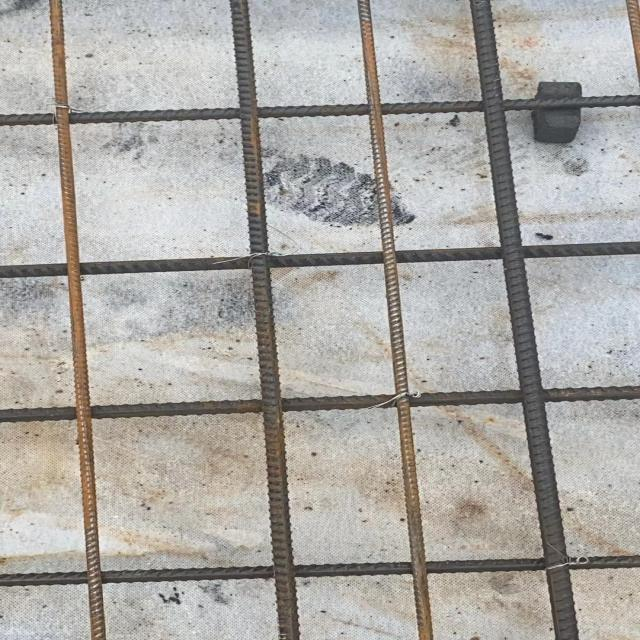ribbed bar: (469, 0, 577, 639), (356, 0, 436, 639), (226, 0, 300, 639), (48, 0, 108, 639), (0, 240, 639, 278), (0, 385, 639, 422), (0, 555, 639, 587), (0, 94, 639, 125)
